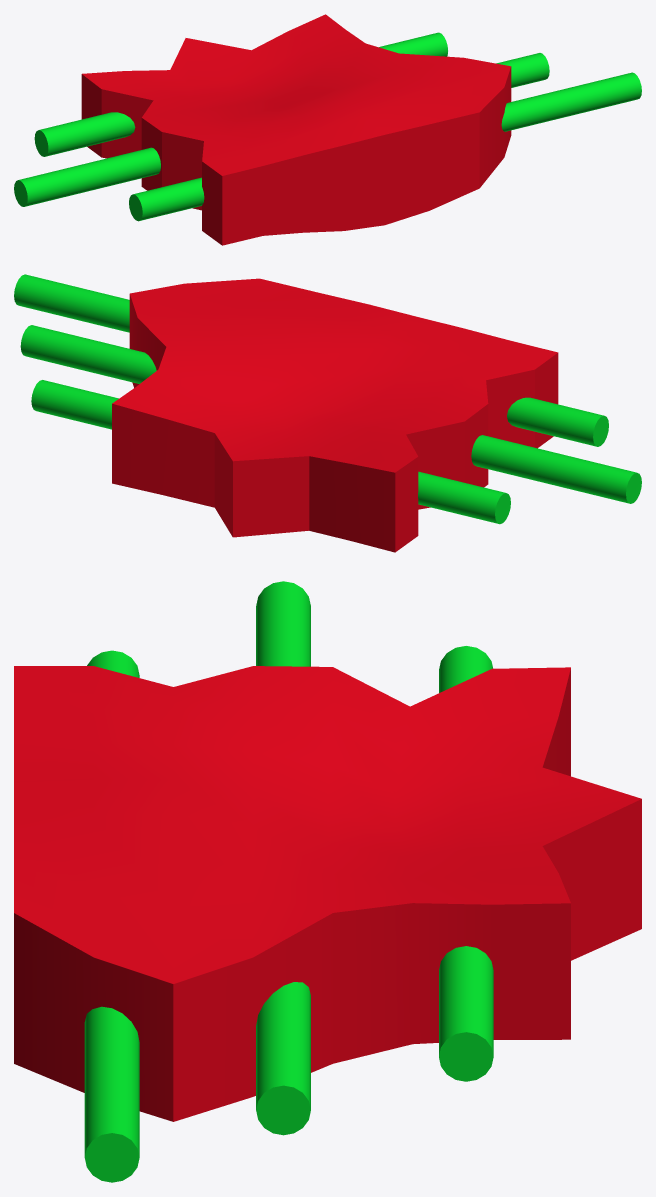
The model's file is Escombro.fbx.
3 renders of one model, top to bottom at view 1: azimuth 30°, elevation 25°; view 2: azimuth 150°, elevation 25°; view 3: azimuth 270°, elevation 25°, orthographic. The views are drawn at different scales.
Visible parts, largest first — view 1: Roca, Tubo3, Tubo2, Tubo1; view 2: Roca, Tubo2, Tubo3, Tubo1; view 3: Roca, Tubo2, Tubo3, Tubo1.
Part boxes in pixels (bbox=[...]): Roca: bbox=[81, 14, 511, 245]; Tubo3: bbox=[129, 72, 641, 221]; Tubo2: bbox=[14, 53, 549, 206]; Tubo1: bbox=[34, 32, 447, 156]; Roca: bbox=[112, 278, 558, 552]; Tubo2: bbox=[20, 325, 641, 503]; Tubo3: bbox=[14, 274, 608, 446]; Tubo1: bbox=[31, 380, 510, 524]; Roca: bbox=[14, 666, 641, 1121]; Tubo2: bbox=[256, 581, 310, 1135]; Tubo3: bbox=[84, 650, 139, 1182]; Tubo1: bbox=[439, 646, 493, 1081].
Bounding box in the file's own units: 82.96 × 15.25 × 39.91.
